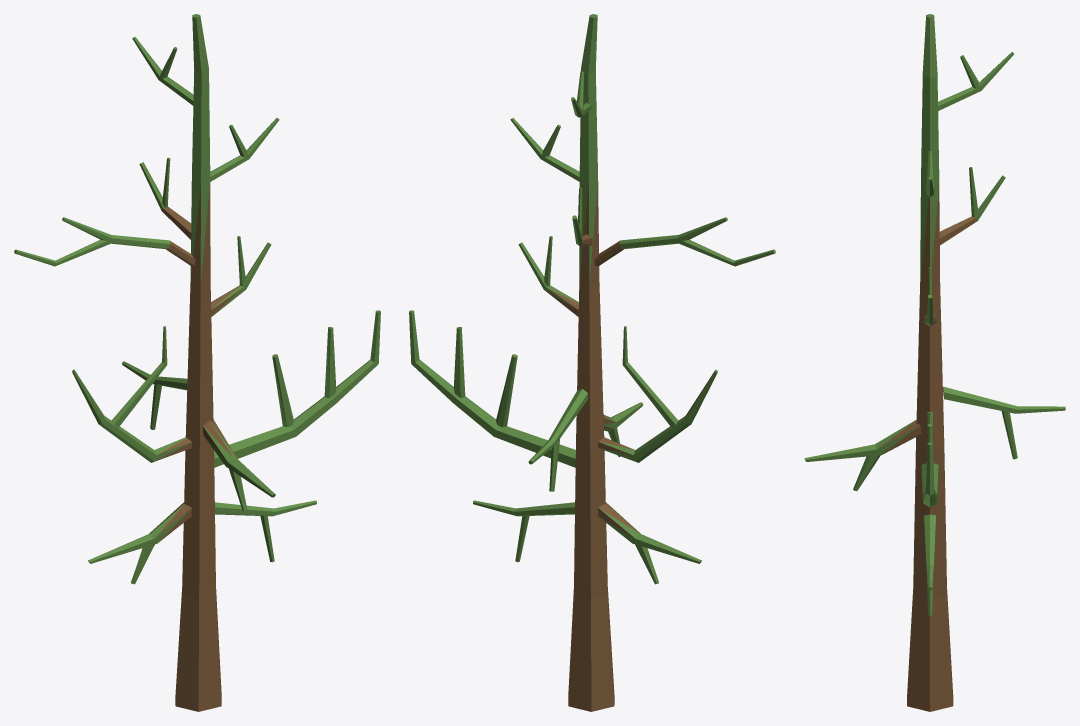
Rendered from tree3d-114.glb.
The picture shows the model from 3 angles, left to right: view 1: azimuth 30°, elevation 25°; view 2: azimuth 150°, elevation 25°; view 3: azimuth 270°, elevation 25°; orthographic projection.
Parts seen in each view (by area): view 1: tree3d-114; view 2: tree3d-114; view 3: tree3d-114.
Part boxes in pixels (<box>): tree3d-114: <box>14,14,380,711</box>; tree3d-114: <box>409,14,775,711</box>; tree3d-114: <box>804,14,1065,711</box>.
Bounding box in the file's own units: 0.5595 × 1 × 0.3465.
